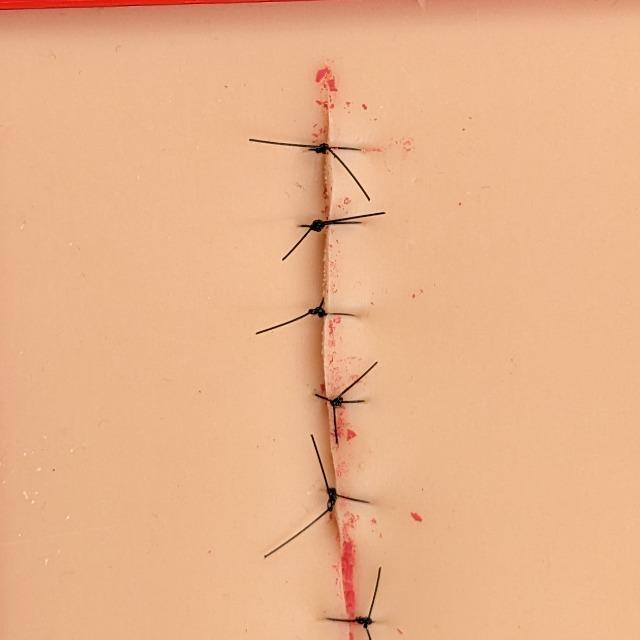suture_good: (295, 216, 372, 238), (298, 140, 373, 162)
suture_loose: (304, 596, 394, 634), (302, 383, 373, 416), (304, 483, 372, 516)
suture_tight: (307, 304, 363, 327)
